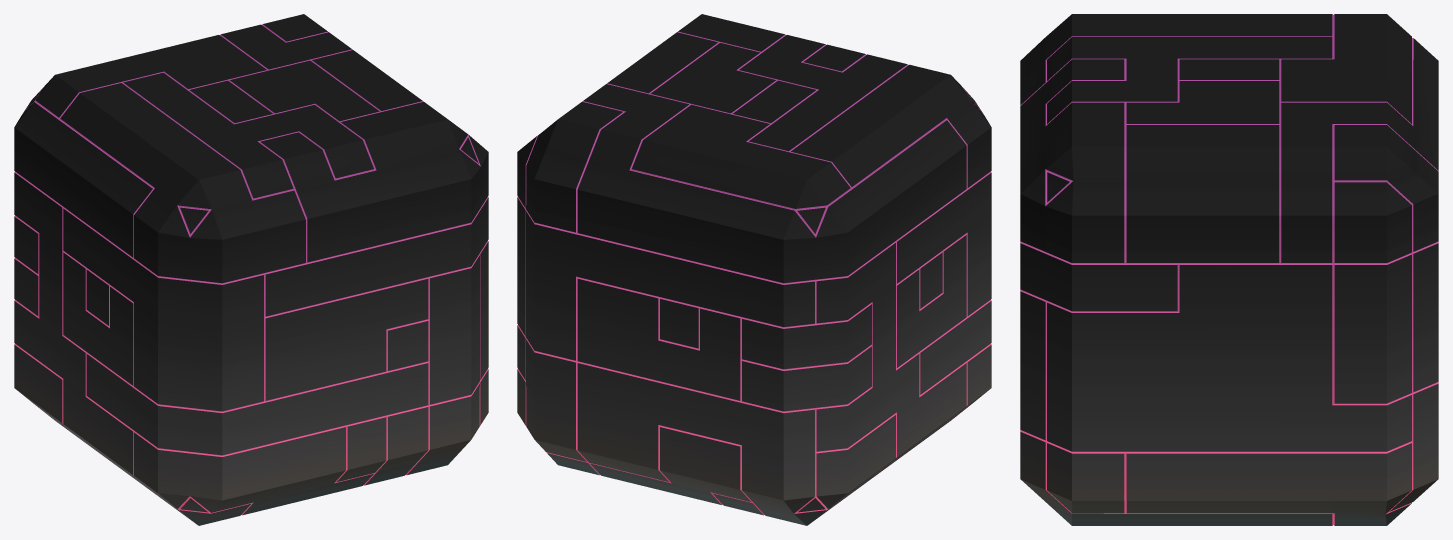
The model's file is CyberPunkCubeShapeE.003.glb.
3 views of the same model, side by side, from view 1: azimuth 30°, elevation 25°; view 2: azimuth 150°, elevation 25°; view 3: azimuth 270°, elevation 25° (orthographic). The views are drawn at different scales.
Parts seen in each view (by area): view 1: CyberPunkCubeShapeE.003; view 2: CyberPunkCubeShapeE.003; view 3: CyberPunkCubeShapeE.003.
Part boxes in pixels (left/top/right/bottom): CyberPunkCubeShapeE.003: left=14, top=14, right=488, bottom=525; CyberPunkCubeShapeE.003: left=517, top=14, right=991, bottom=525; CyberPunkCubeShapeE.003: left=1020, top=14, right=1438, bottom=525.
Size of what is drawn, in the model's own units: 0.7816 by 0.7816 by 0.7816.
2 materials, 2 textured.
